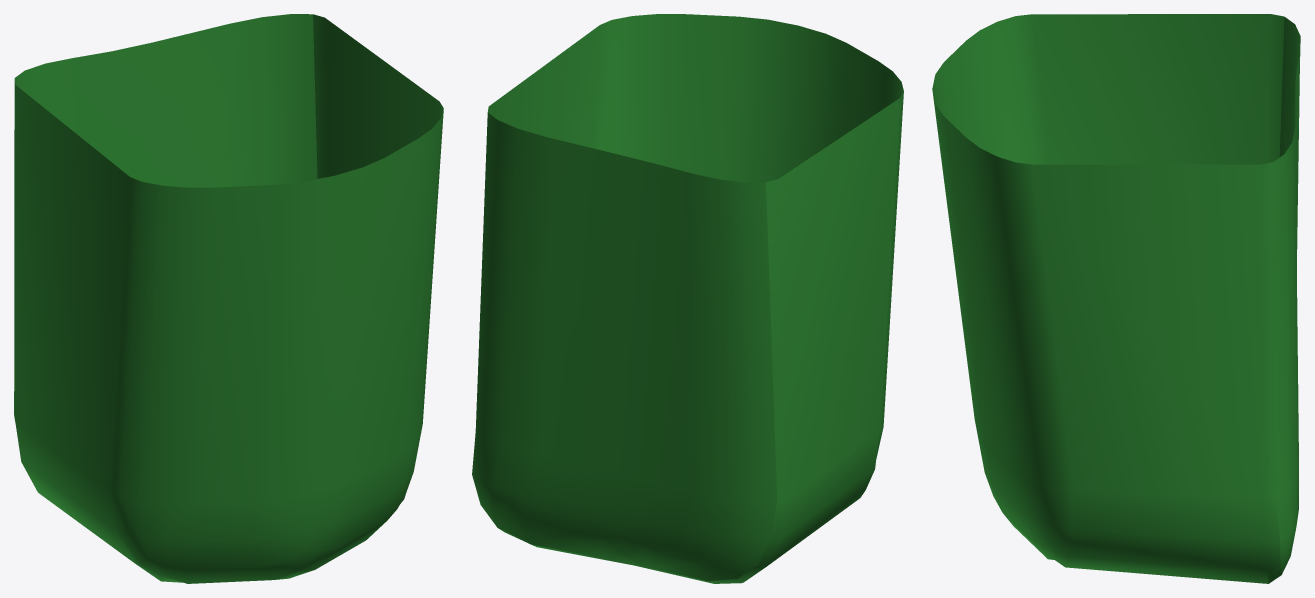
The picture shows the model from 3 angles, left to right: view 1: azimuth 30°, elevation 25°; view 2: azimuth 150°, elevation 25°; view 3: azimuth 270°, elevation 25°; orthographic projection. The views are drawn at different scales.
Visible parts, largest first — view 1: Cube.001; view 2: Cube.001; view 3: Cube.001.
Part boxes in pixels (x1,y1,x2,y2): Cube.001: (14, 14, 443, 583); Cube.001: (472, 14, 903, 583); Cube.001: (932, 14, 1300, 583).
Size of the model in its own units: 27.93 by 36.77 by 27.88.
